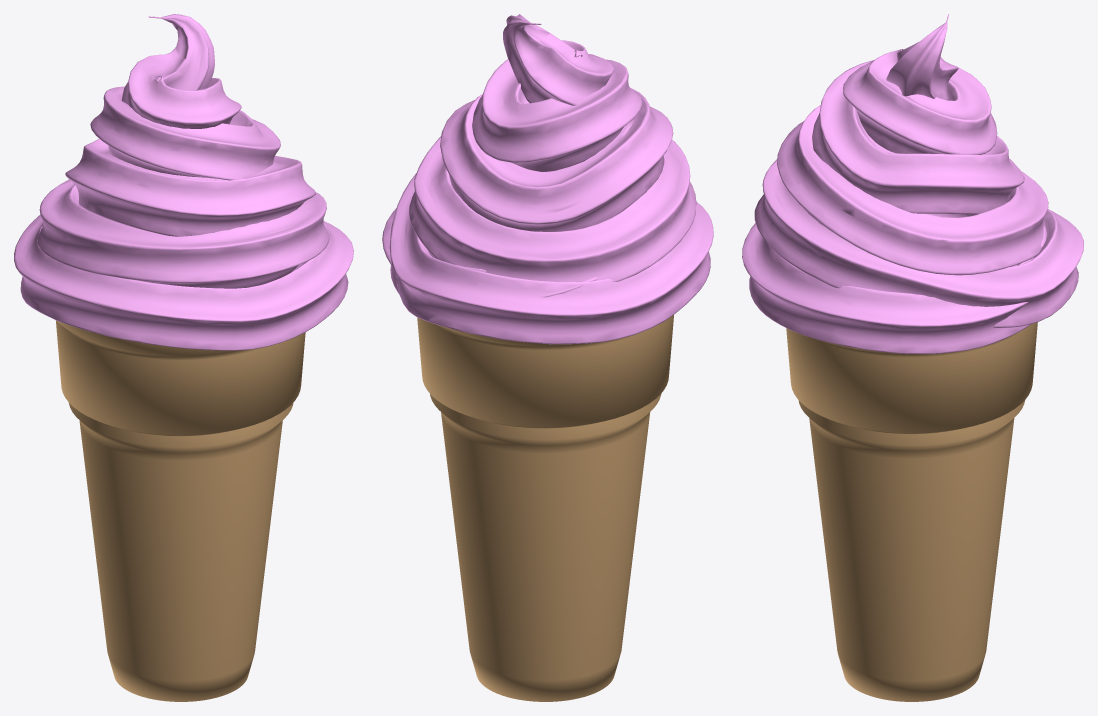
The model's file is GlassROSA.glb.
3 views of the same model, side by side, from view 1: azimuth 30°, elevation 25°; view 2: azimuth 150°, elevation 25°; view 3: azimuth 270°, elevation 25° (orthographic). The views are drawn at different scales.
Parts seen in each view (by area): view 1: Cylinder.376; view 2: Cylinder.376; view 3: Cylinder.376.
Part boxes in pixels (x1=…): Cylinder.376: x1=14, y1=14, x2=353, y2=701; Cylinder.376: x1=382, y1=14, x2=713, y2=701; Cylinder.376: x1=742, y1=14, x2=1083, y2=701.
Size of the model in its own units: 1.09 by 2.33 by 1.11.
